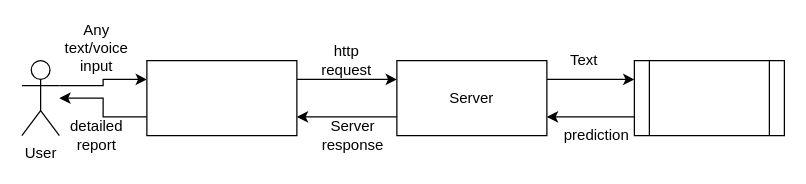
Some shapes in this 806 by 184 pixel diagram are drawn without their labels. The centre of each missing label's shape, as x and y in pixels:
Mobile App: (221,97)
Trained model: (708,97)
